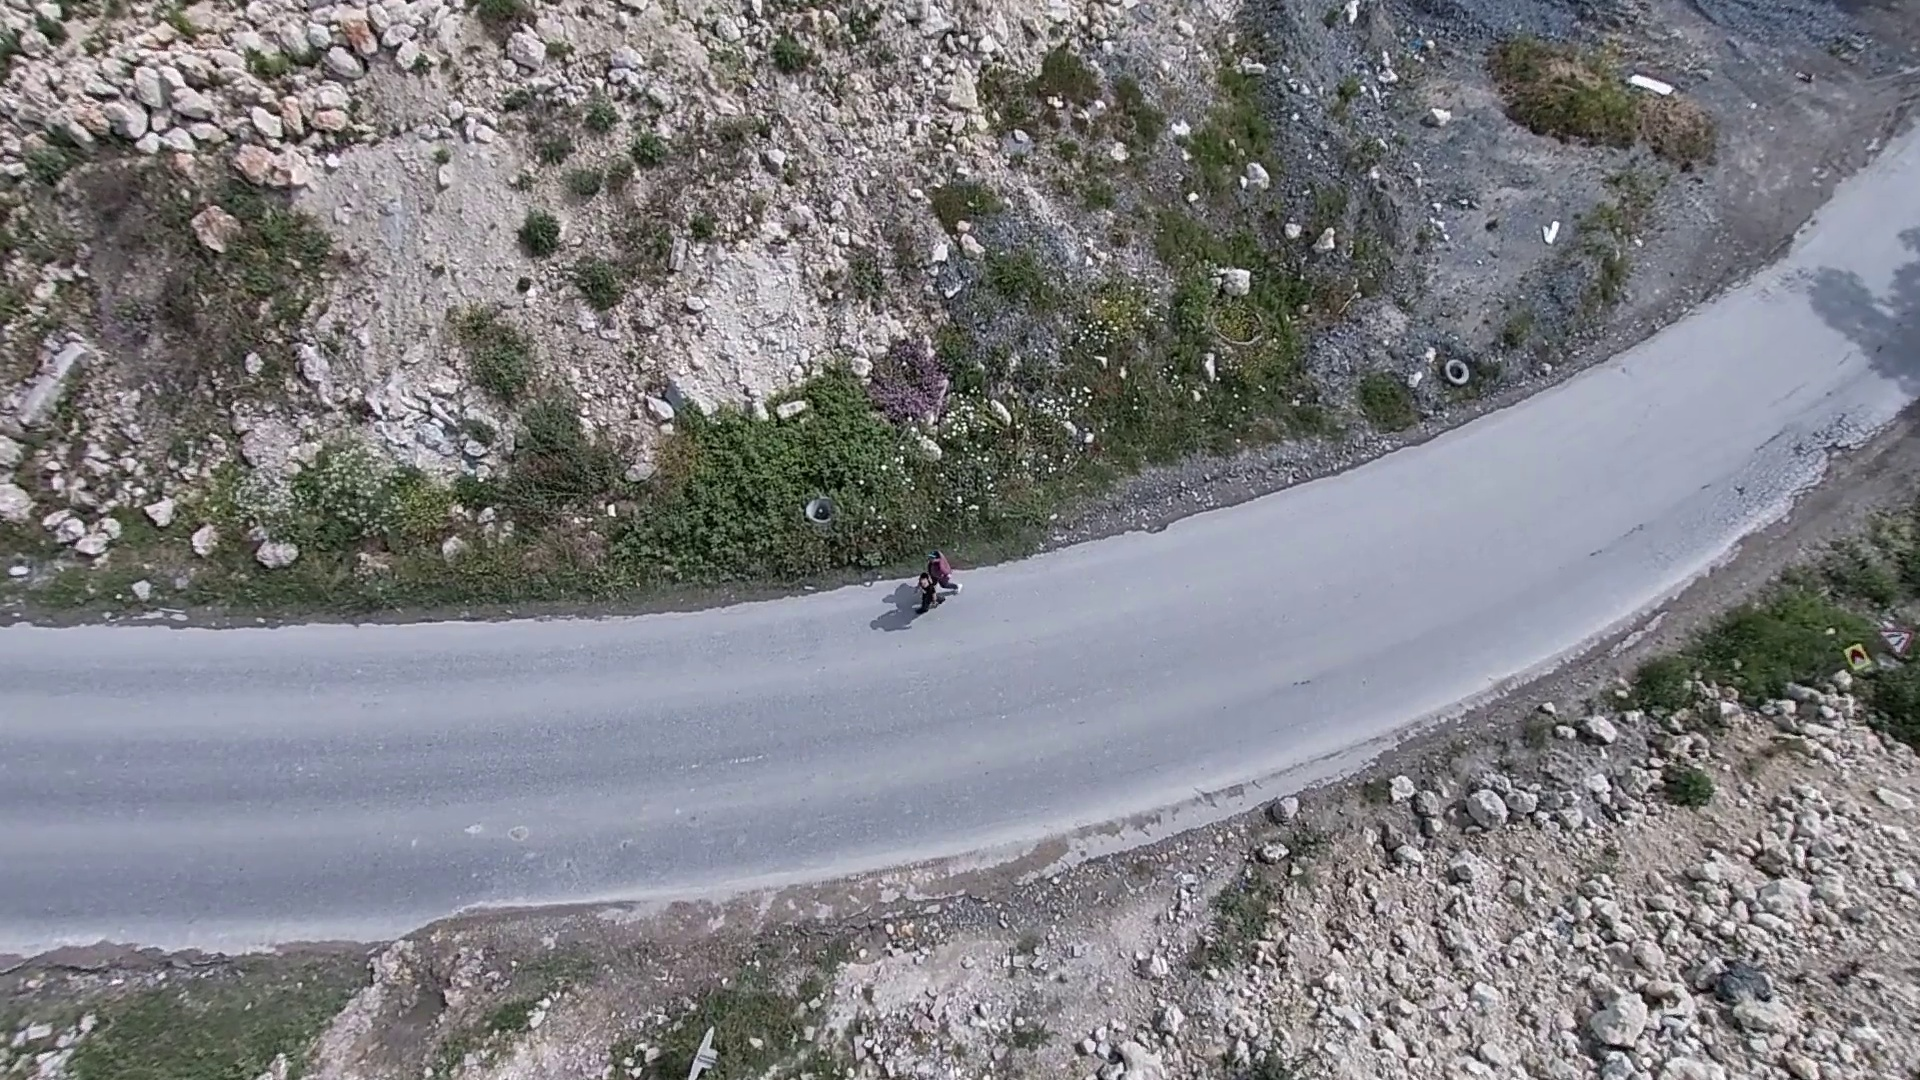insan: (923, 548, 964, 596), (912, 568, 942, 618)
